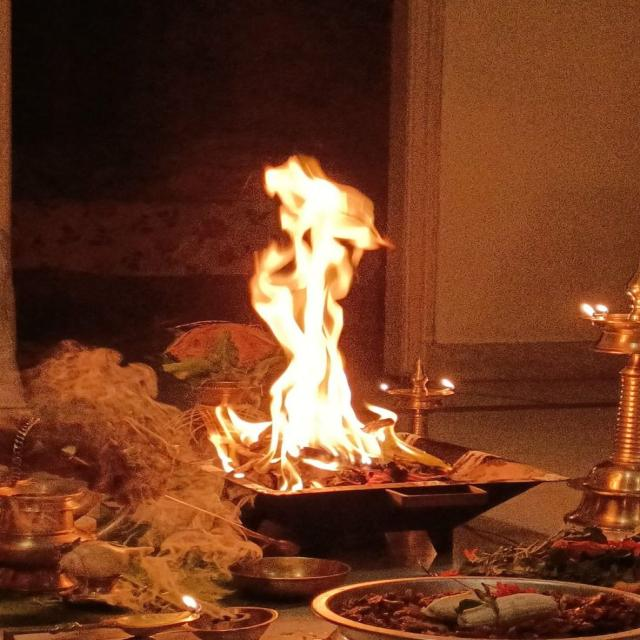fire: (209, 154, 418, 491)
